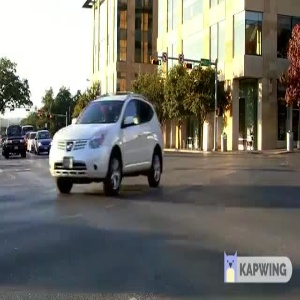suv: (44, 92, 167, 201)
